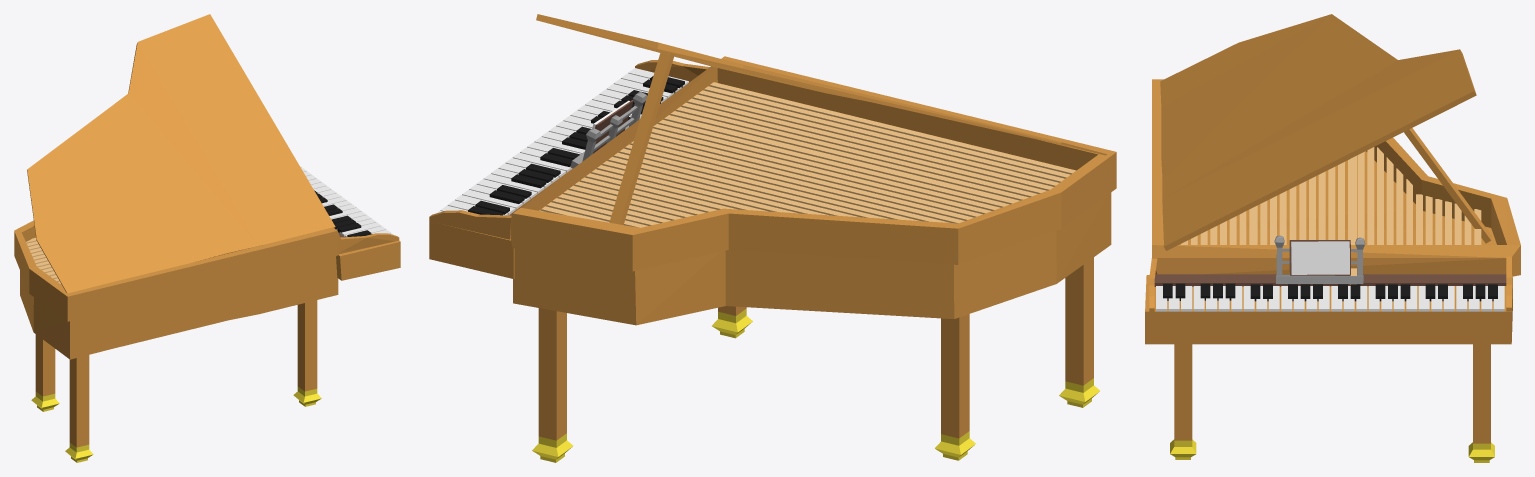
The model's file is Piano.gltf.
The picture shows the model from 3 angles, left to right: view 1: azimuth 30°, elevation 25°; view 2: azimuth 150°, elevation 25°; view 3: azimuth 270°, elevation 25°; orthographic projection. The views are drawn at different scales.
Parts seen in each view (by area): view 1: Node; view 2: Node; view 3: Node.
Part boxes in pixels (x1,y1,x2,y2): Node: [14, 14, 400, 462]; Node: [429, 14, 1116, 462]; Node: [1145, 14, 1520, 462].
Bounding box in the file's own units: 3.45 × 2.99 × 2.71.
